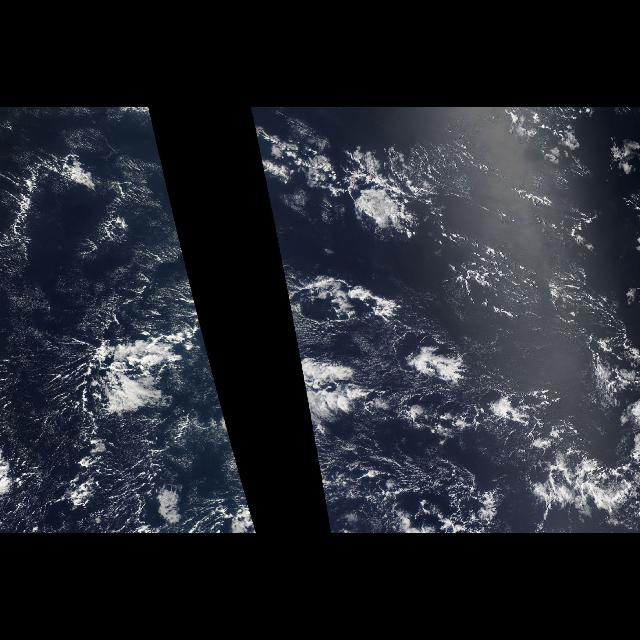Flower: (270, 111, 484, 399)
Gravel: (290, 261, 598, 534), (0, 390, 258, 530)
Sugar: (0, 192, 196, 530)
